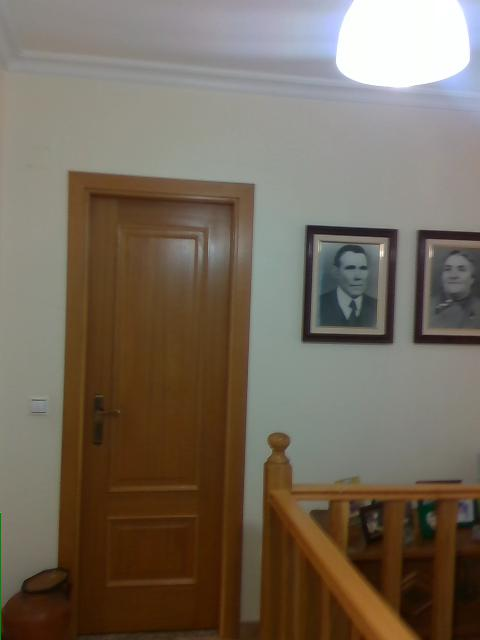door: (82, 197, 227, 639)
